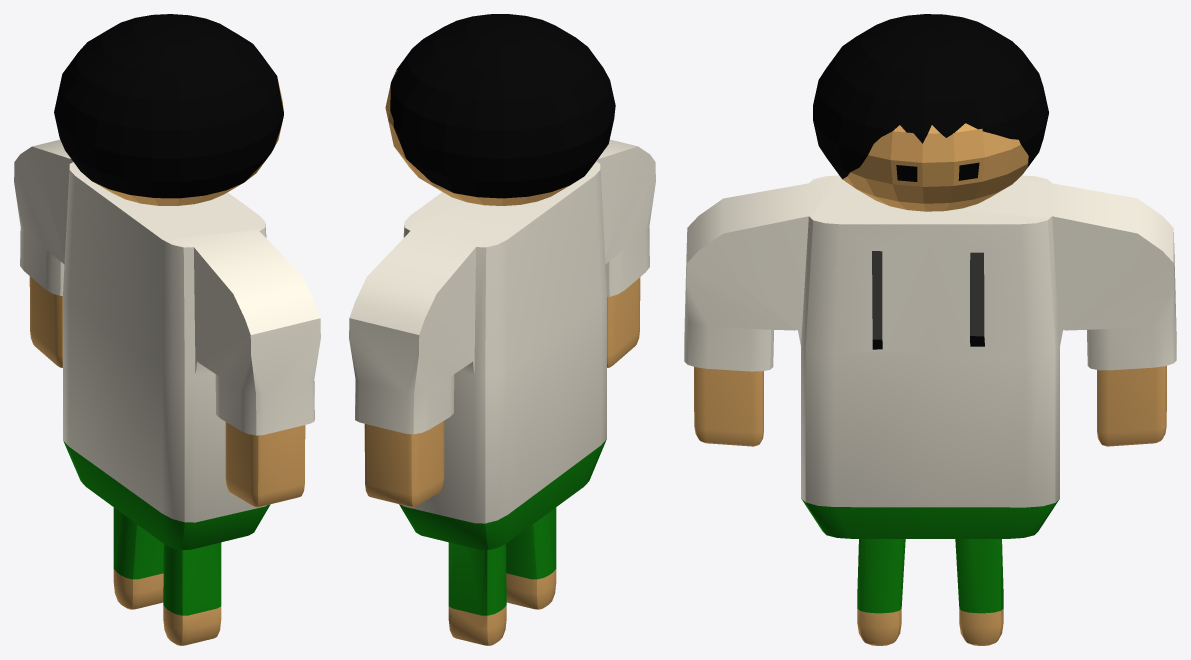
File: Andy.fbx
The picture shows the model from 3 angles, left to right: view 1: azimuth 30°, elevation 25°; view 2: azimuth 150°, elevation 25°; view 3: azimuth 270°, elevation 25°; orthographic projection. The views are drawn at different scales.
Visible parts, largest first — view 1: Cube.001; view 2: Cube.001; view 3: Cube.001.
Part boxes in pixels (x1,y1,x2,y2): Cube.001: (14, 14, 320, 645); Cube.001: (349, 14, 655, 645); Cube.001: (684, 14, 1176, 645).
Size of the model in its own units: 57.24 by 163 by 119.
